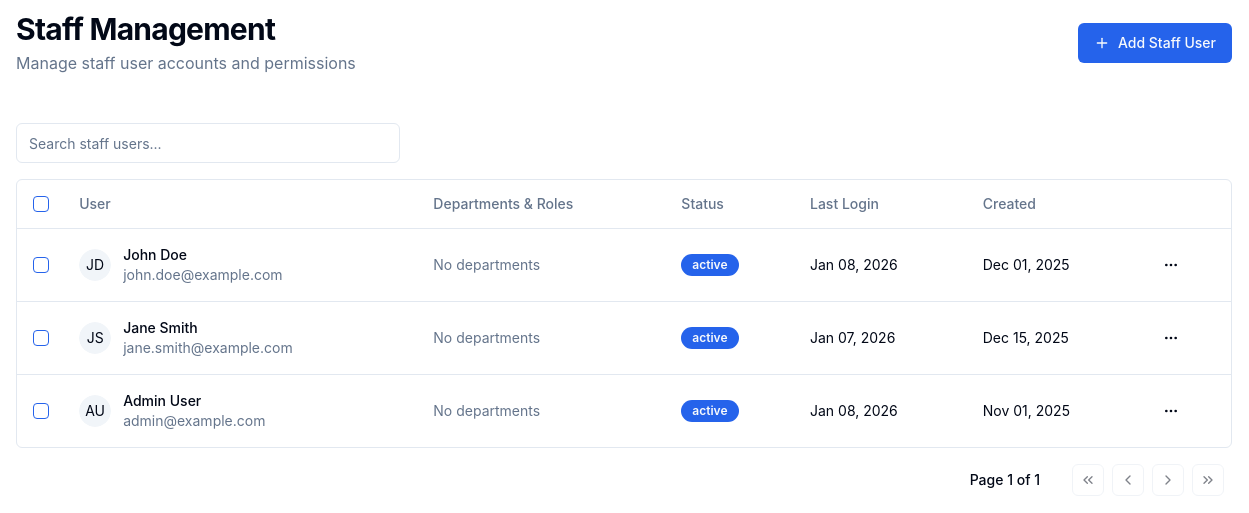
Test: UserManagementPage › Bulk Actions › should enable bulk delete when users are selected
Check: the text "John Doe" is shown, box [123,246,187,262]
Step 1. Click the checkbox named "Select row" next to "JD" → point(41, 264), box [33,256,49,272]
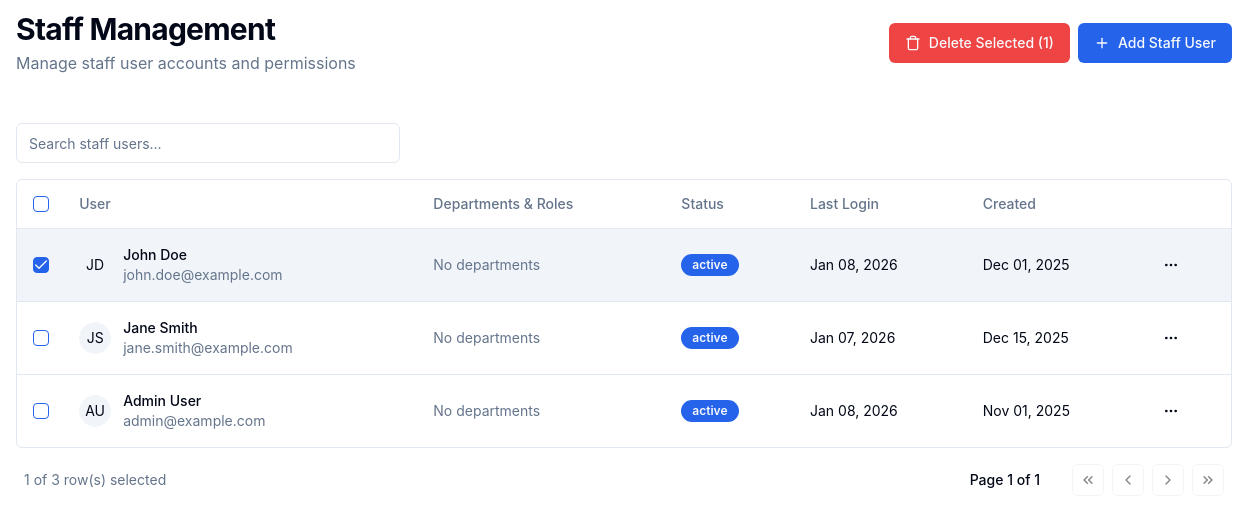
Check: the checkbox named "Select row" next to "JD" is checked, box [33,256,49,272]
